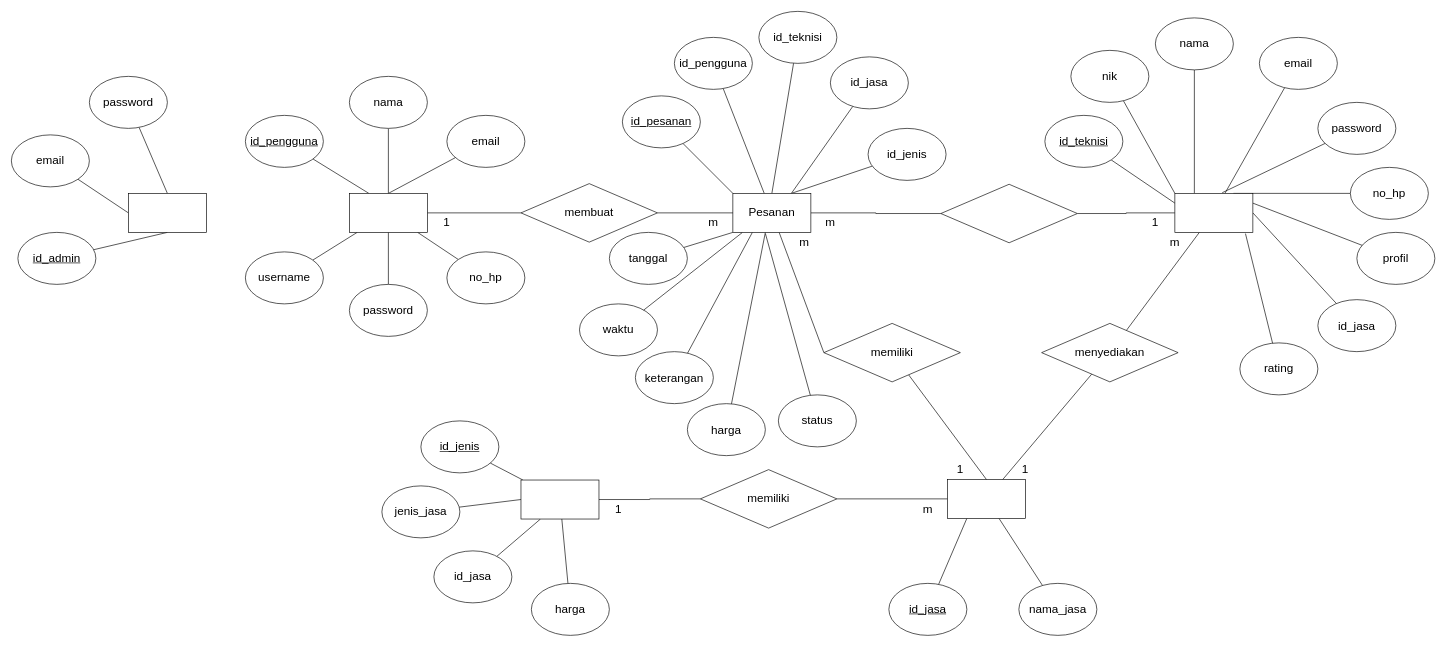
This 1446x647 diagram has some shape labels left out. Here are the shapes that lost their labels. From the top down, the centre of each, then its label:
(167,212): Admin
(388,212): Pengguna
(1008,213): mengerjakan
(1213,212): Teknisi
(559,499): Jenis Jasa
(986,498): Jasa
